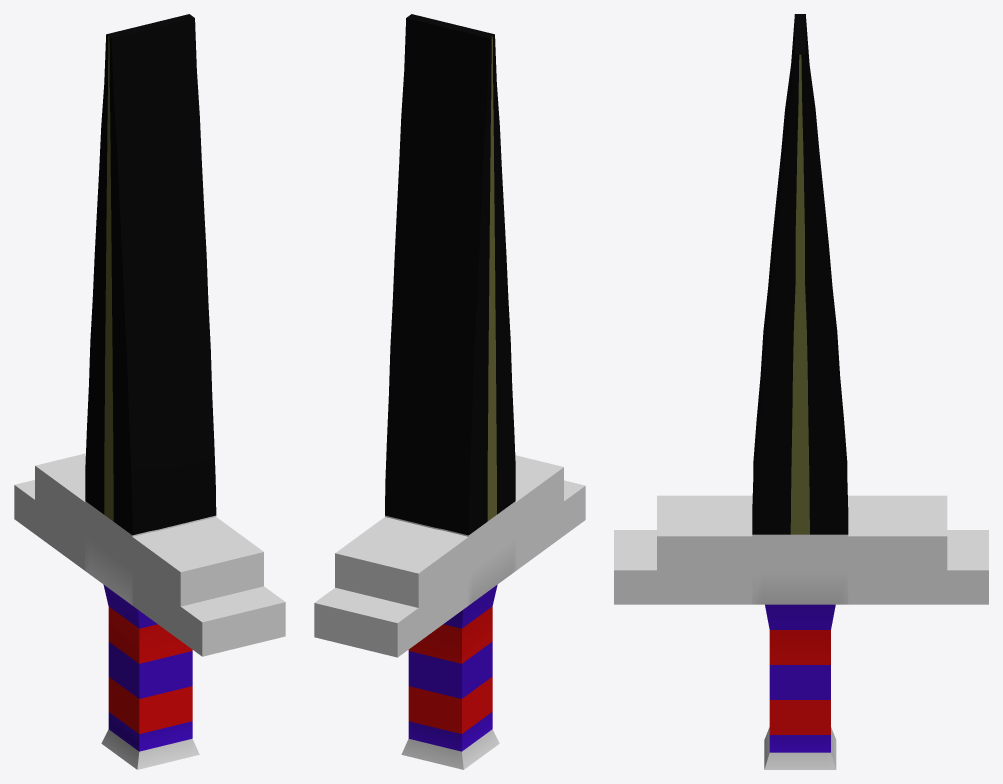
The model's file is Sword.fbx.
The picture shows the model from 3 angles, left to right: view 1: azimuth 30°, elevation 25°; view 2: azimuth 150°, elevation 25°; view 3: azimuth 270°, elevation 25°; orthographic projection.
Visible parts, largest first — view 1: pCube1; view 2: pCube1; view 3: pCube1.
Boxes of the visible parts, box(x1,y1,x2,y2) form: pCube1: box(14, 14, 285, 769); pCube1: box(314, 14, 585, 769); pCube1: box(614, 14, 988, 769).
Size of the model in its own units: 1 by 8.29 by 3.91.
